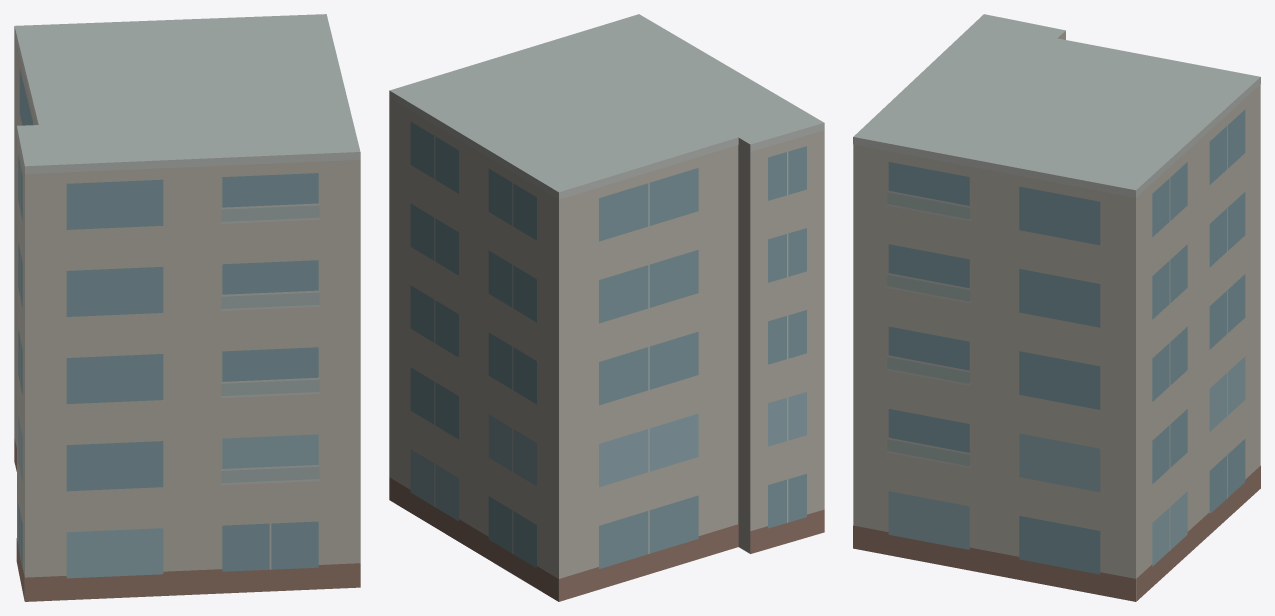
The model's file is survey-upis-32670140.glb.
3 views of the same model, side by side, from view 1: azimuth 30°, elevation 25°; view 2: azimuth 150°, elevation 25°; view 3: azimuth 270°, elevation 25° (orthographic). The views are drawn at different scales.
Visible parts, largest first — view 1: survey-upis-32670140.tmp; view 2: survey-upis-32670140.tmp; view 3: survey-upis-32670140.tmp.
Boxes of the visible parts, box(x1,y1,x2,y2) form: survey-upis-32670140.tmp: box(14, 14, 360, 601); survey-upis-32670140.tmp: box(389, 14, 824, 601); survey-upis-32670140.tmp: box(853, 14, 1260, 601).
Size of the model in its own units: 12.46 by 13.55 by 12.17.
